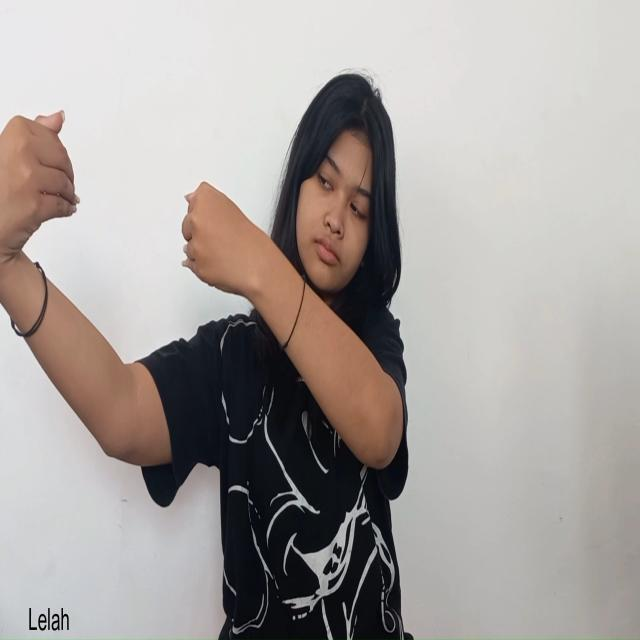Lelah -BISINDO-: (0, 105, 268, 305)
